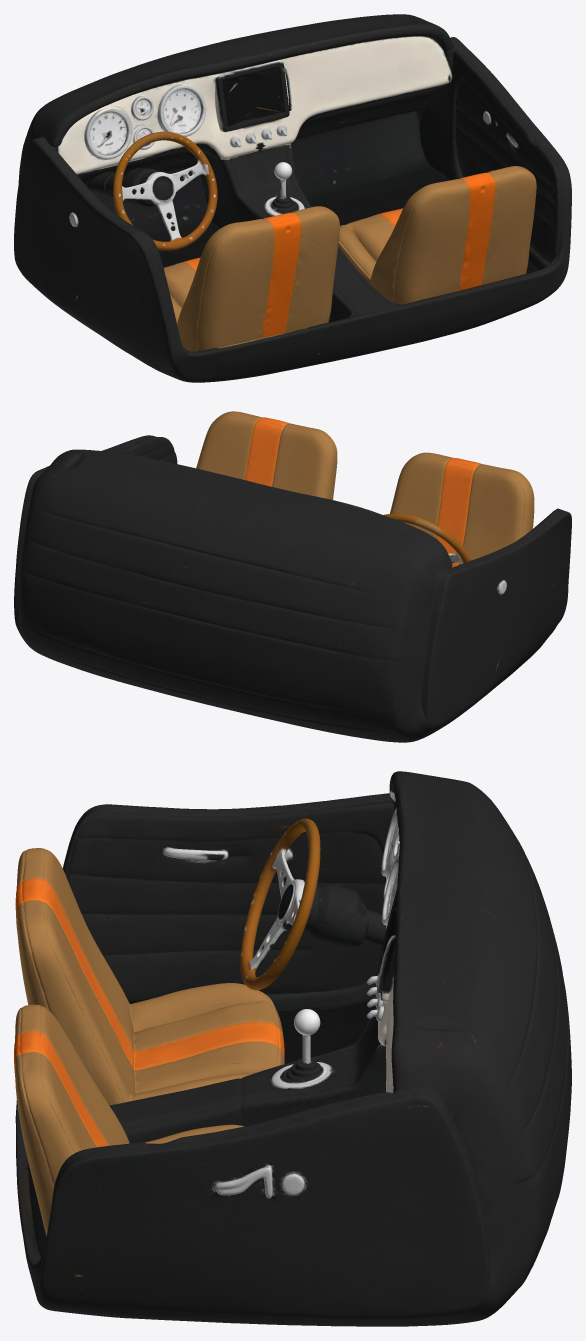
File: gt-cockpit.glb
3 renders of one model, top to bottom at view 1: azimuth 30°, elevation 25°; view 2: azimuth 150°, elevation 25°; view 3: azimuth 270°, elevation 25°, orthographic. The views are drawn at different scales.
Visible parts, largest first — view 1: Mesh_0; view 2: Mesh_0; view 3: Mesh_0.
Boxes of the visible parts, bbox=[...] form: Mesh_0: bbox=[14, 14, 571, 382]; Mesh_0: bbox=[14, 411, 571, 742]; Mesh_0: bbox=[14, 771, 571, 1326].
Bounding box in the file's own units: 1 × 0.4615 × 0.7342.
1 material, 1 textured.
